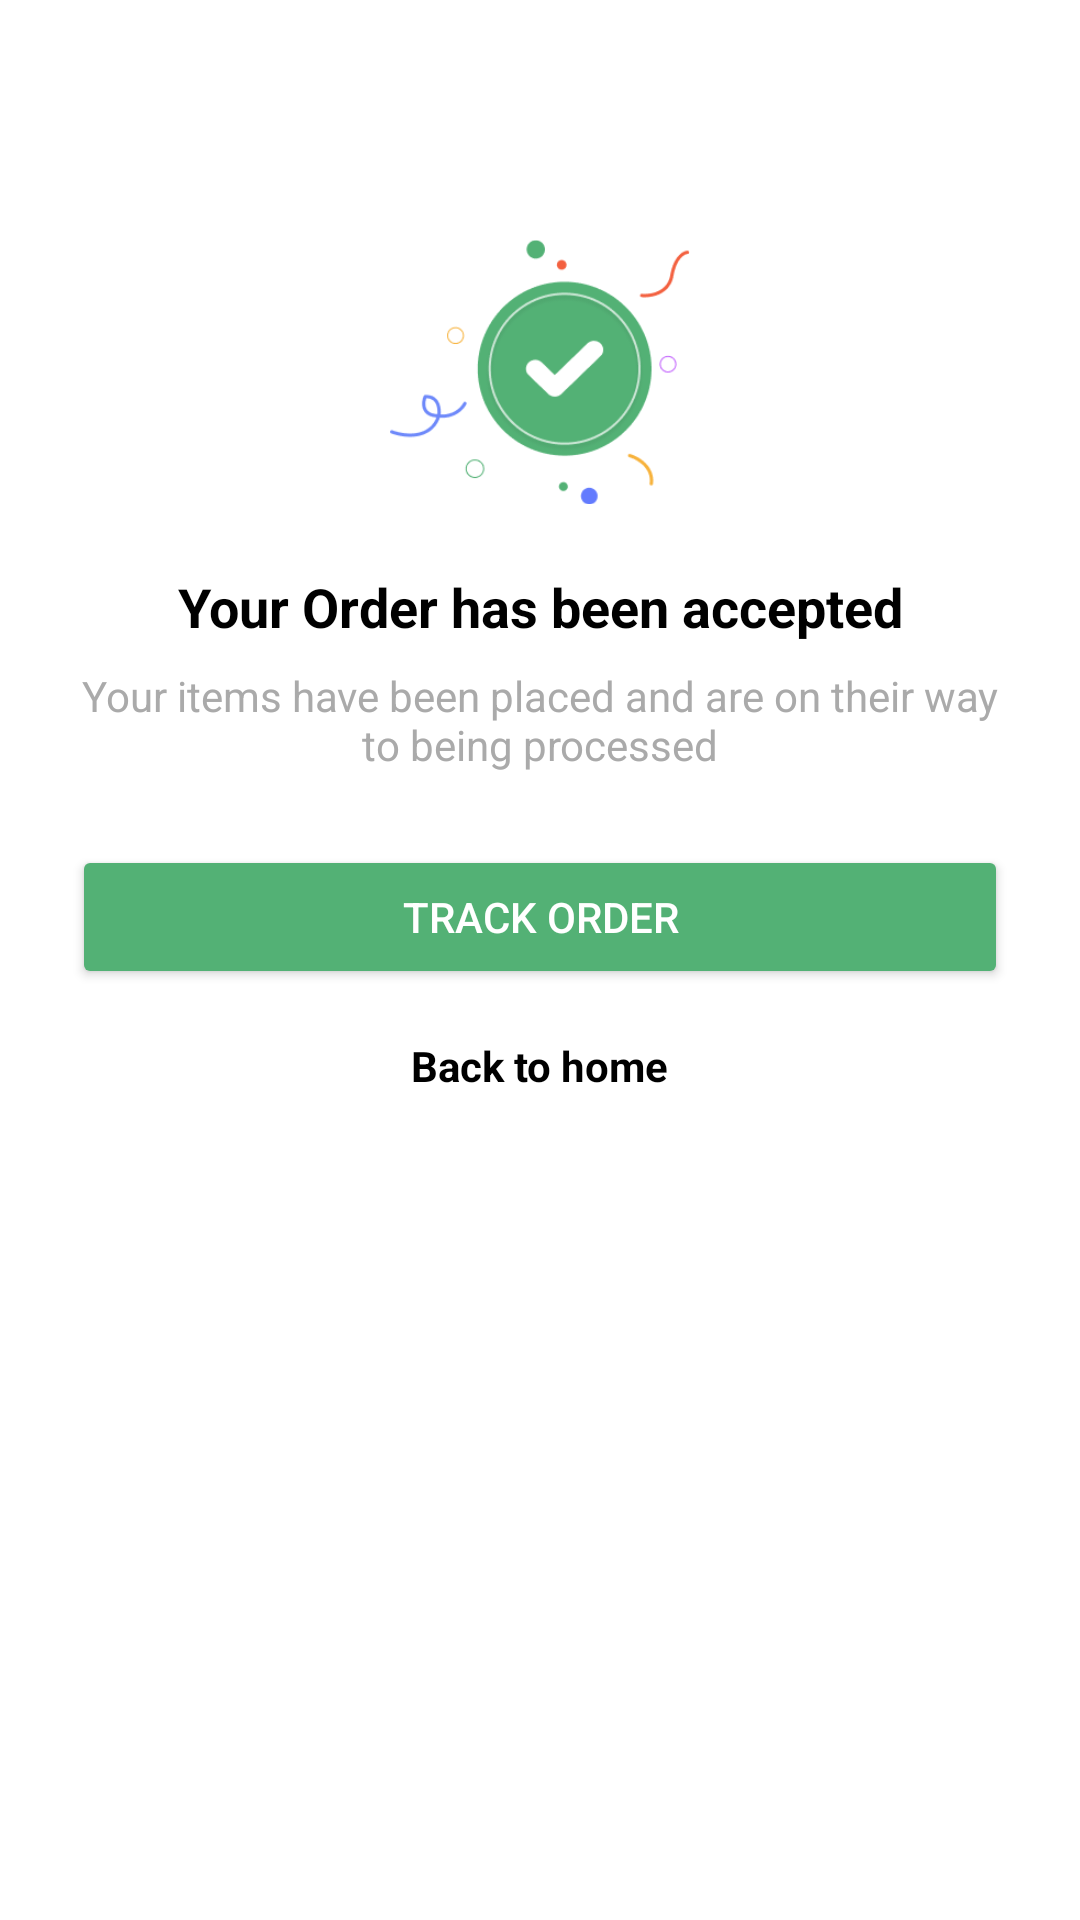

Named icons in this screenshot (1080 × 1920) and their bounding boxes, [x1, y1, x2, y2]:
Success Icon: [390, 240, 689, 504]
